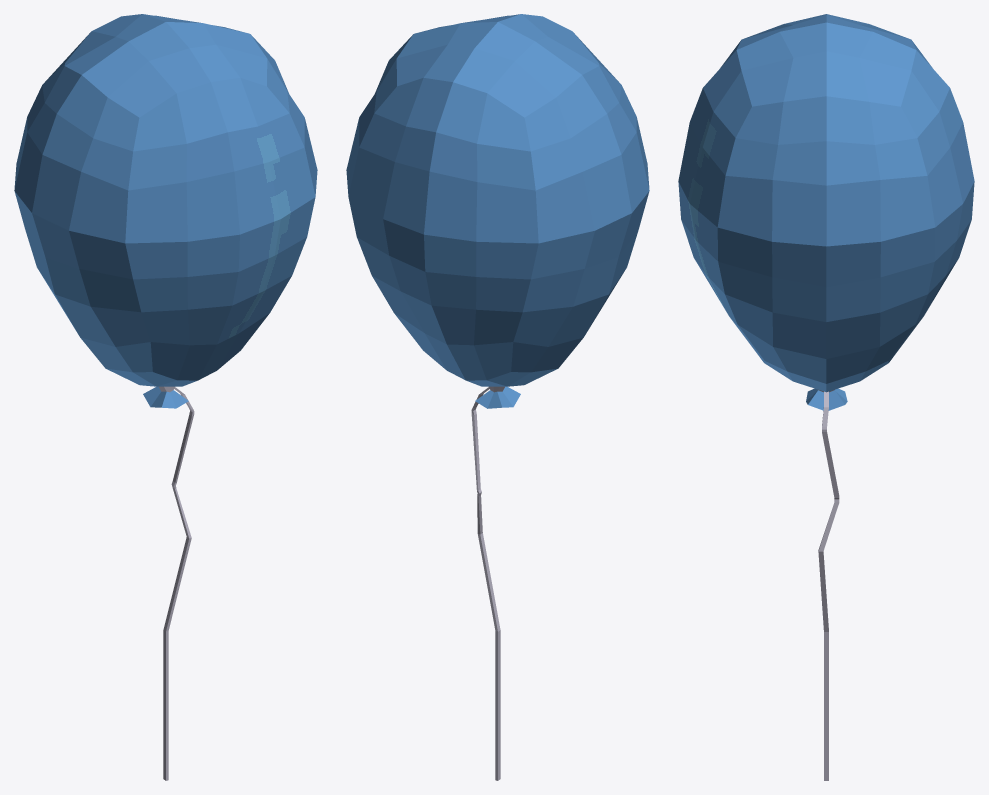
Rendered from Balloon2.fbx.
3 views of the same model, side by side, from view 1: azimuth 30°, elevation 25°; view 2: azimuth 150°, elevation 25°; view 3: azimuth 270°, elevation 25° (orthographic).
Visible parts, largest first — view 1: ลูกโป่ง2; view 2: ลูกโป่ง2; view 3: ลูกโป่ง2.
Part boxes in pixels (x1,y1,x2,y2): ลูกโป่ง2: [14, 14, 317, 780]; ลูกโป่ง2: [346, 14, 649, 780]; ลูกโป่ง2: [678, 14, 974, 780].
Bounding box in the file's own units: 145 × 392 × 139.
1 material, 1 textured.
